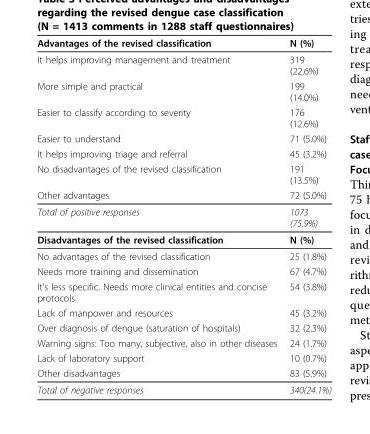table: (36, 36, 330, 394)
table column: (36, 36, 282, 394), (282, 36, 330, 394)
table column header: (36, 36, 330, 50)
table row: (36, 50, 330, 78), (36, 160, 330, 187), (36, 203, 330, 230), (36, 78, 330, 104), (36, 104, 330, 130), (36, 278, 330, 304), (36, 230, 330, 247), (36, 187, 330, 203), (36, 247, 330, 263), (36, 319, 330, 335), (36, 365, 330, 381), (36, 130, 330, 145), (36, 145, 330, 160), (36, 263, 330, 278), (36, 304, 330, 319), (36, 335, 330, 350), (36, 350, 330, 365), (36, 36, 330, 50), (36, 381, 330, 394)
